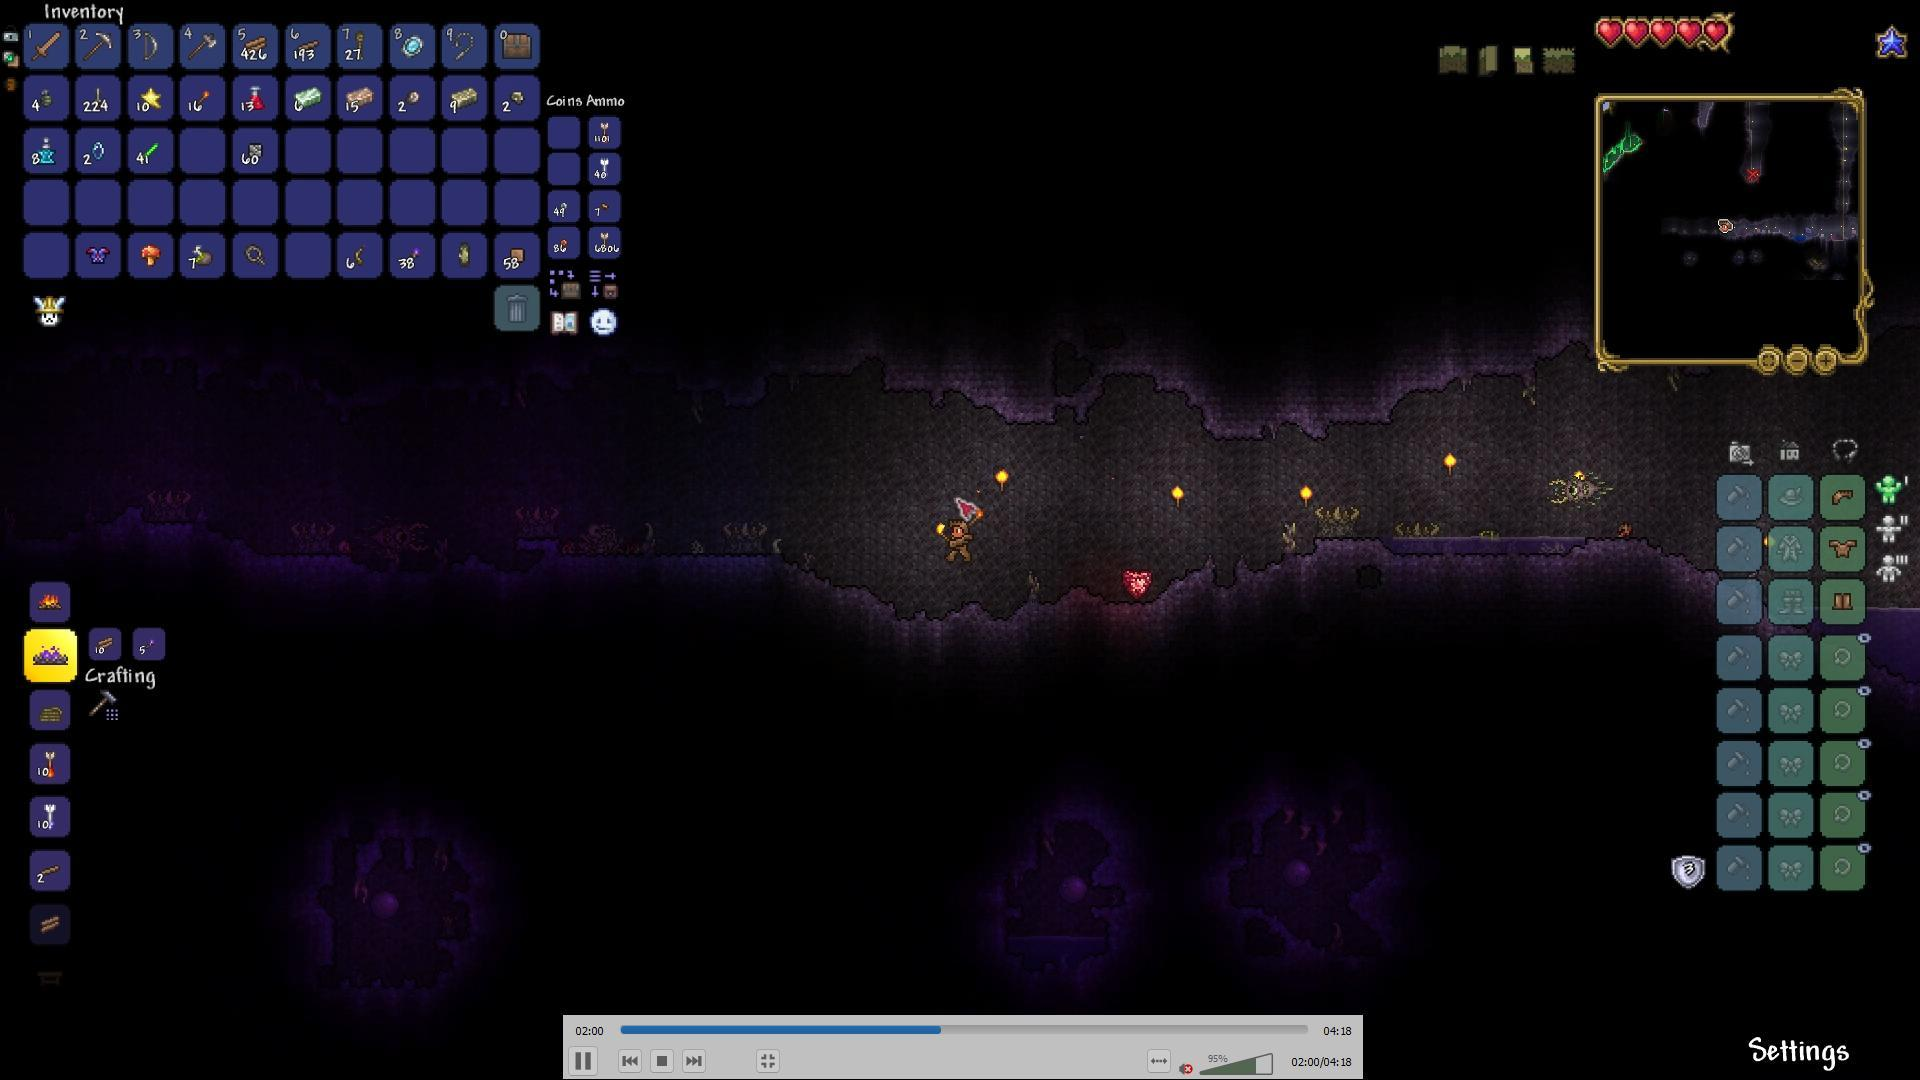crimera: (1548, 465, 1606, 510)
glowstick: (140, 137, 160, 162)
lifeC: (1118, 563, 1153, 599)
potion: (245, 80, 265, 112)
recallP: (37, 135, 58, 165)
